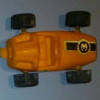naranja_este: (1, 11, 97, 87)
